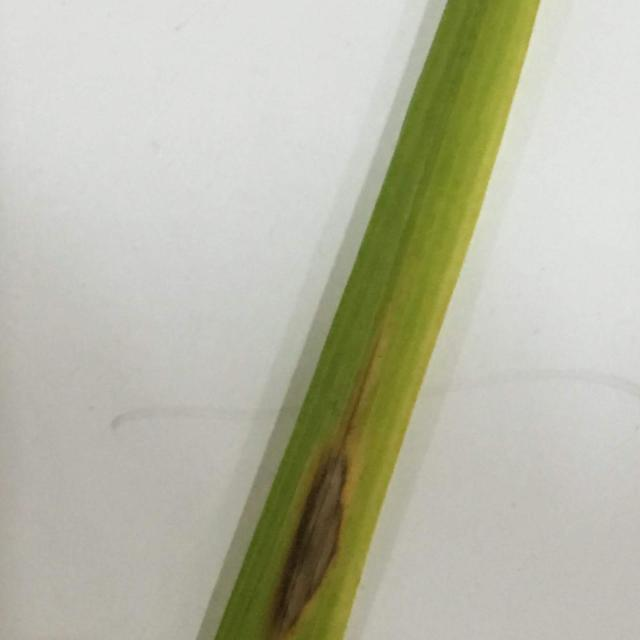Leaf blast: (170, 2, 568, 640)
